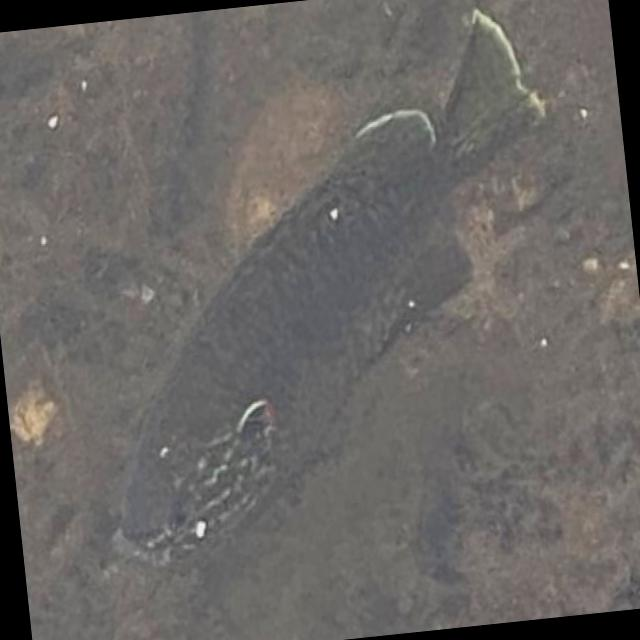Gunes Levregi: (47, 0, 592, 578)
